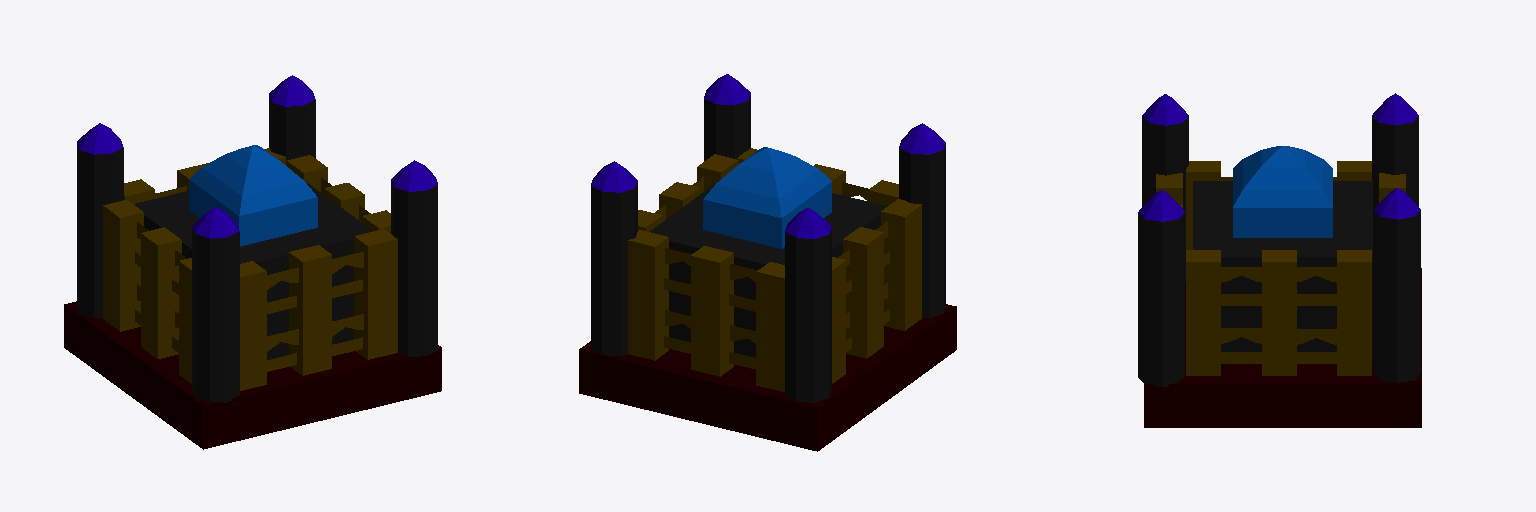
File: royalPalace1f.obj
3 renders of one model, left to right at view 1: azimuth 30°, elevation 25°; view 2: azimuth 150°, elevation 25°; view 3: azimuth 270°, elevation 25°, orthographic.
Parts seen in each view (by area): view 1: Cube.004, Cube.003, Cube.006, Cube.005, Cube.002, Cube, Cube.008, Cube.009, Cube.014_Cube.015, Cube.015_Cube.016, Cube.001, Cube.007 (+4 smaller); view 2: Cube.004, Cube, Cube.006, Cube.005, Cube.001, Cube.003, Cube.012_Cube.013, Cube.011_Cube.012, Cube.015_Cube.016, Cube.013_Cube.014, Cube.010_Cube.011, Cube.002 (+4 smaller); view 3: Cube.004, Cube.005, Cube.002, Cube.001, Cube.006, Cube.016_Cube.017, Cube.017_Cube.018, Cube.018_Cube.019, Cube, Cube.003, Cube.013_Cube.014, Cube.014_Cube.015 (+2 smaller).
Part boxes in pixels (x1,y1,x2,y2): Cube.004: (64, 301, 441, 449); Cube.003: (192, 207, 239, 402); Cube.006: (189, 145, 317, 246); Cube.005: (134, 178, 372, 359); Cube.002: (391, 160, 437, 356); Cube: (77, 123, 123, 317); Cube.008: (354, 229, 397, 359); Cube.009: (289, 245, 331, 375); Cube.014_Cube.015: (103, 200, 143, 331); Cube.015_Cube.016: (141, 227, 181, 358); Cube.001: (269, 75, 315, 160); Cube.007: (240, 261, 266, 390); Cube.004: (579, 304, 956, 451); Cube: (785, 208, 831, 402); Cube.006: (703, 147, 831, 248); Cube.005: (650, 181, 887, 357); Cube.001: (591, 161, 637, 356); Cube.003: (899, 123, 945, 318); Cube.012_Cube.013: (691, 246, 733, 376); Cube.011_Cube.012: (628, 230, 668, 360); Cube.015_Cube.016: (843, 227, 883, 358); Cube.013_Cube.014: (881, 199, 921, 330); Cube.010_Cube.011: (756, 262, 784, 391); Cube.002: (704, 74, 750, 160); Cube.004: (1144, 268, 1421, 427); Cube.005: (1193, 181, 1372, 363); Cube.002: (1138, 190, 1184, 386); Cube.001: (1374, 188, 1420, 382); Cube.006: (1233, 146, 1332, 237); Cube.016_Cube.017: (1186, 250, 1220, 375); Cube.017_Cube.018: (1337, 250, 1371, 375); Cube.018_Cube.019: (1262, 250, 1296, 375); Cube: (1372, 93, 1418, 280); Cube.003: (1142, 94, 1188, 283); Cube.013_Cube.014: (1186, 161, 1220, 249); Cube.014_Cube.015: (1337, 161, 1371, 180).
Bounding box in the file's own units: 16.12 × 14.61 × 16.39.